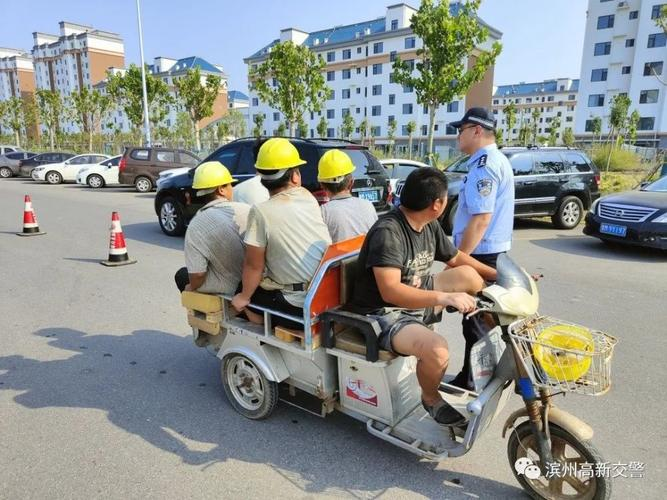driver: (356, 162, 473, 432)
overloading: (166, 153, 623, 500)
passenger: (235, 137, 329, 324), (174, 150, 251, 301), (311, 149, 377, 251)
